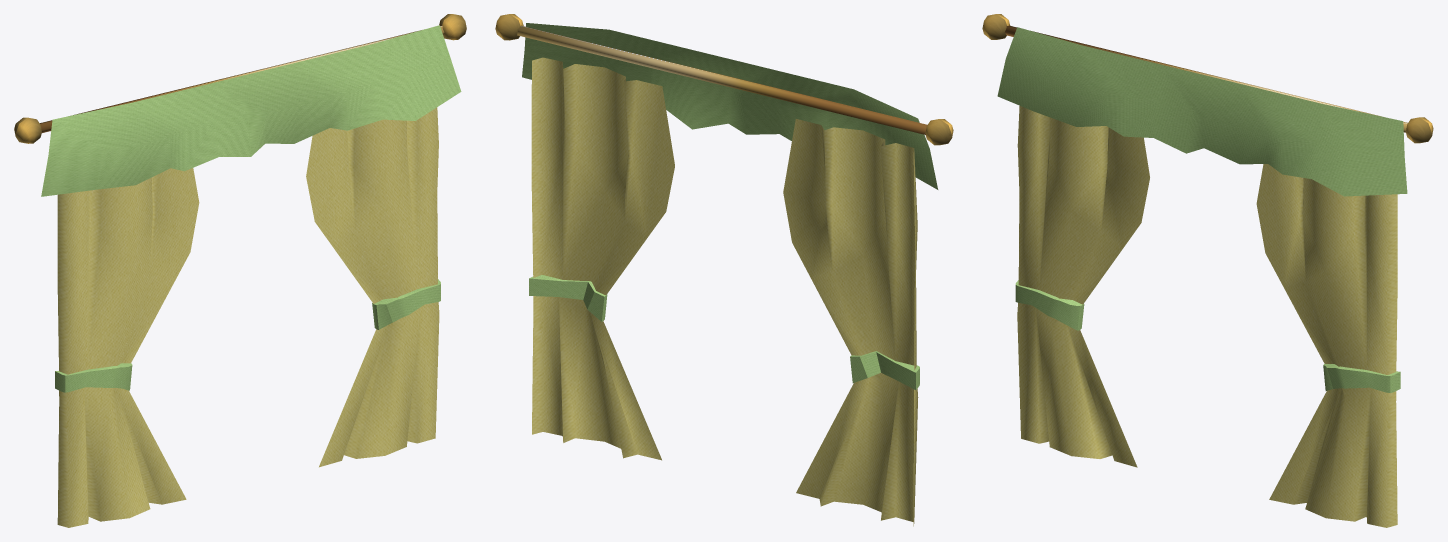
The model's file is Curtains_01_D.FBX.
3 renders of one model, left to right at view 1: azimuth 30°, elevation 25°; view 2: azimuth 150°, elevation 25°; view 3: azimuth 330°, elevation 25°, orthographic.
Visible parts, largest first — view 1: Curtains_01; view 2: Curtains_01; view 3: Curtains_01.
Part boxes in pixels (box(x1,y1,x2,y2)): Curtains_01: box(14, 14, 466, 527); Curtains_01: box(495, 14, 953, 526); Curtains_01: box(982, 14, 1433, 527).
Size of the model in its own units: 251 by 221 by 25.59.
